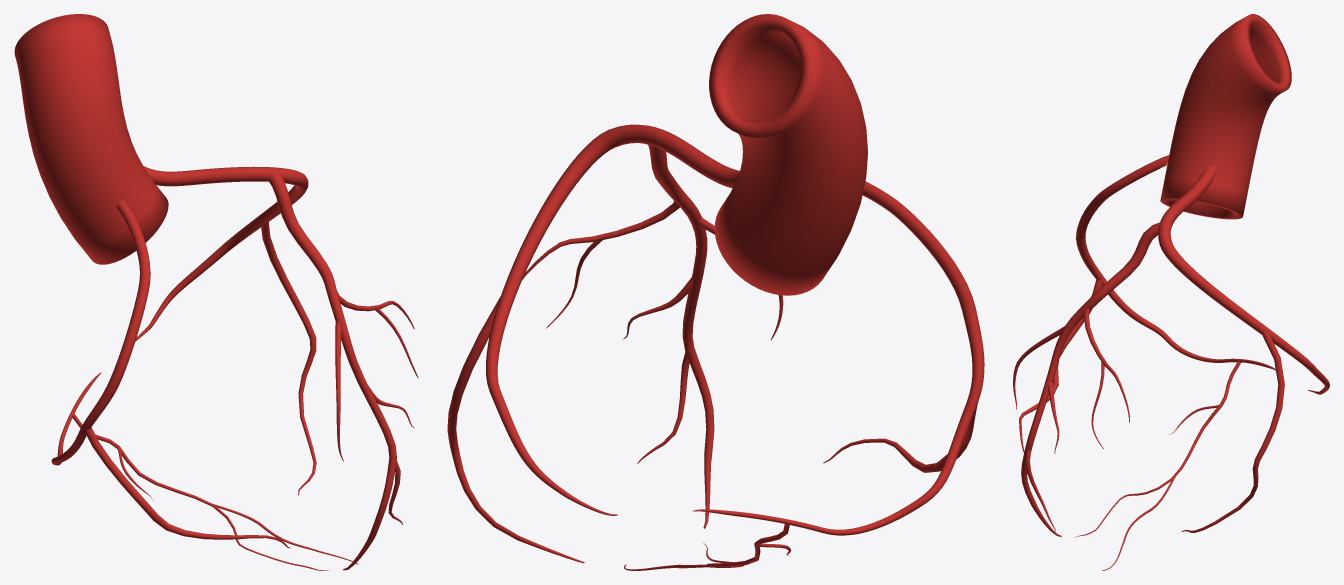
Rendered from heart.gltf.
3 views of the same model, side by side, from view 1: azimuth 30°, elevation 25°; view 2: azimuth 150°, elevation 25°; view 3: azimuth 270°, elevation 25° (orthographic). The views are drawn at different scales.
Parts seen in each view (by area): view 1: aorta_new; view 2: aorta_new; view 3: aorta_new.
Boxes of the visible parts, left/top/right/bottom form: aorta_new: left=14, top=14, right=418, bottom=570; aorta_new: left=447, top=14, right=984, bottom=570; aorta_new: left=1013, top=14, right=1329, bottom=570.
Size of the model in its own units: 1.98 by 2.93 by 1.8.
